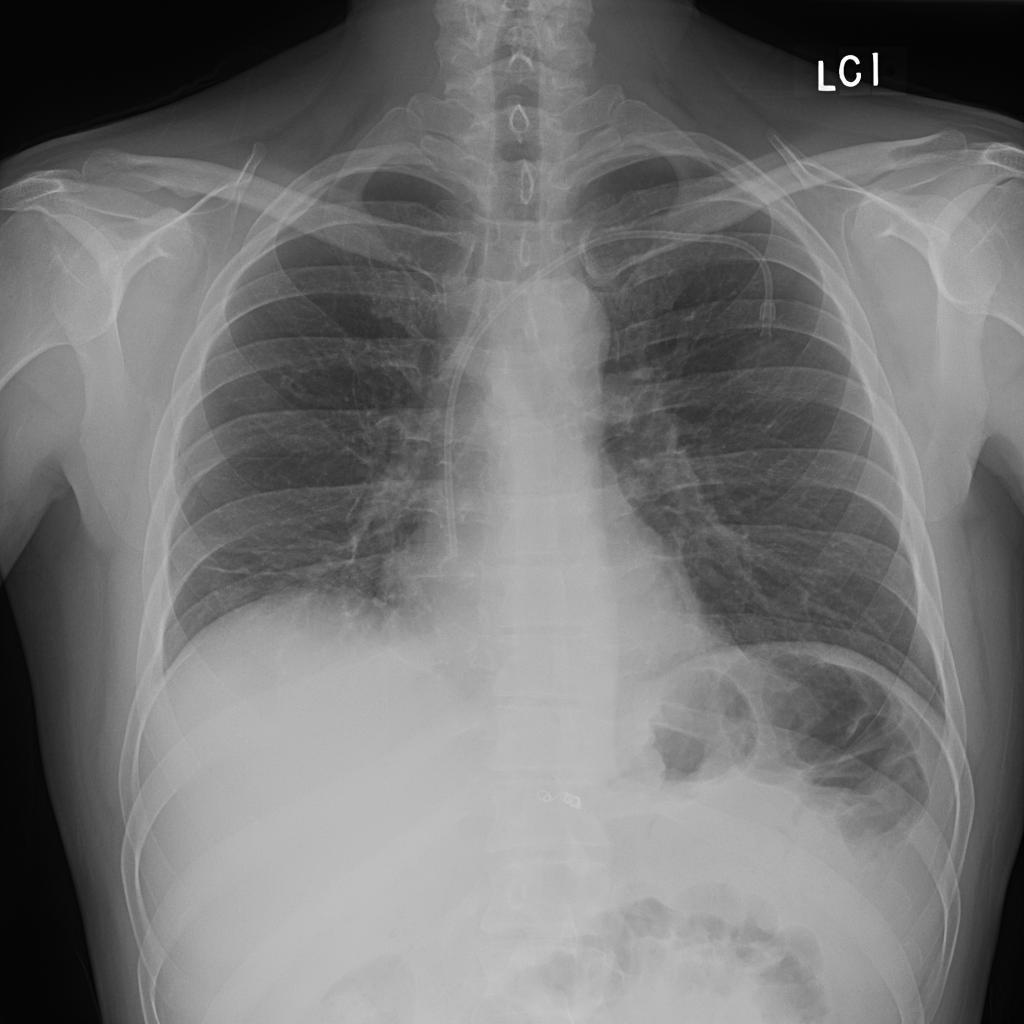Nodule: (95, 283, 124, 311), (217, 147, 245, 174), (140, 277, 169, 303), (96, 246, 122, 271)
